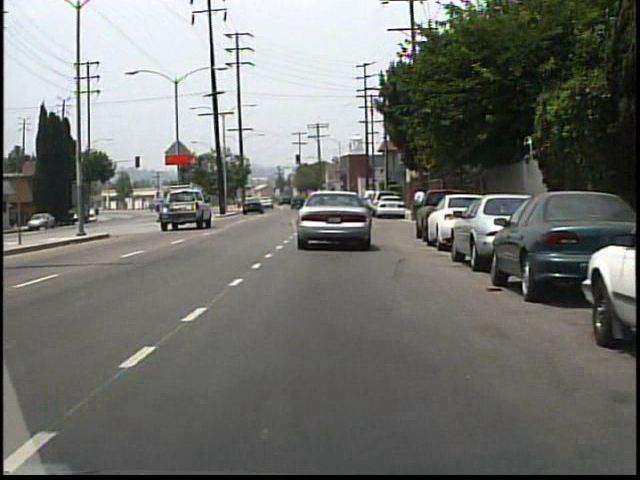person: (411, 183, 429, 225)
